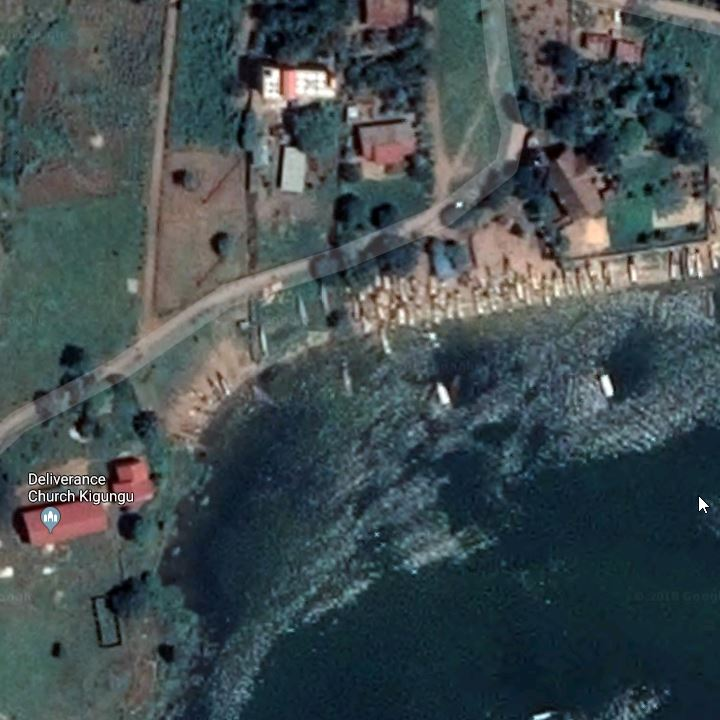boat: (247, 380, 287, 413), (333, 354, 360, 401), (239, 323, 264, 364), (431, 378, 456, 415), (595, 368, 618, 405), (570, 261, 589, 303), (199, 372, 224, 403), (293, 289, 311, 332), (357, 277, 373, 325), (255, 322, 274, 362), (214, 363, 233, 403), (599, 254, 616, 296), (622, 252, 642, 287), (497, 251, 517, 285), (691, 241, 706, 284), (316, 279, 332, 318), (542, 274, 557, 314), (469, 284, 486, 319), (422, 268, 440, 301), (487, 274, 501, 316), (682, 240, 696, 282), (501, 279, 517, 315), (583, 251, 598, 289), (429, 294, 443, 331), (550, 267, 565, 301), (382, 272, 395, 311), (666, 248, 679, 285), (348, 292, 362, 325), (562, 269, 576, 300), (378, 326, 392, 356), (455, 286, 466, 322), (513, 274, 526, 304), (527, 263, 541, 290), (445, 290, 456, 323), (707, 242, 717, 276), (408, 299, 418, 332), (522, 281, 533, 309), (398, 276, 409, 303), (398, 302, 407, 332), (374, 272, 381, 309)
